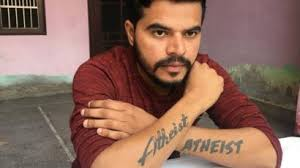Indian_Male: (132, 2, 206, 84)
